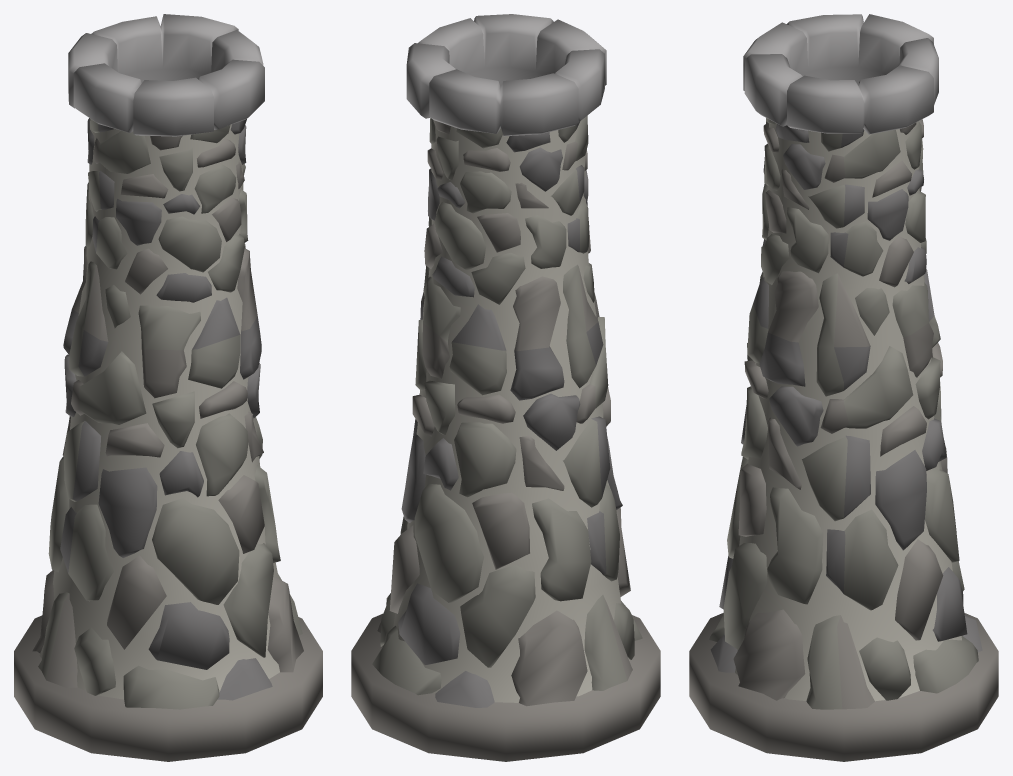
File: rpgpp_ag_chimney_02b.fbx
The picture shows the model from 3 angles, left to right: view 1: azimuth 30°, elevation 25°; view 2: azimuth 150°, elevation 25°; view 3: azimuth 270°, elevation 25°; orthographic projection.
Parts seen in each view (by area): view 1: rpgpp_ag_chimney_02b; view 2: rpgpp_ag_chimney_02b; view 3: rpgpp_ag_chimney_02b.
Boxes of the visible parts, left/top/right/bottom form: rpgpp_ag_chimney_02b: left=14, top=14, right=322, bottom=761; rpgpp_ag_chimney_02b: left=351, top=14, right=660, bottom=761; rpgpp_ag_chimney_02b: left=689, top=14, right=998, bottom=761.
Bounding box in the file's own units: 2.18 × 5.01 × 2.18.
